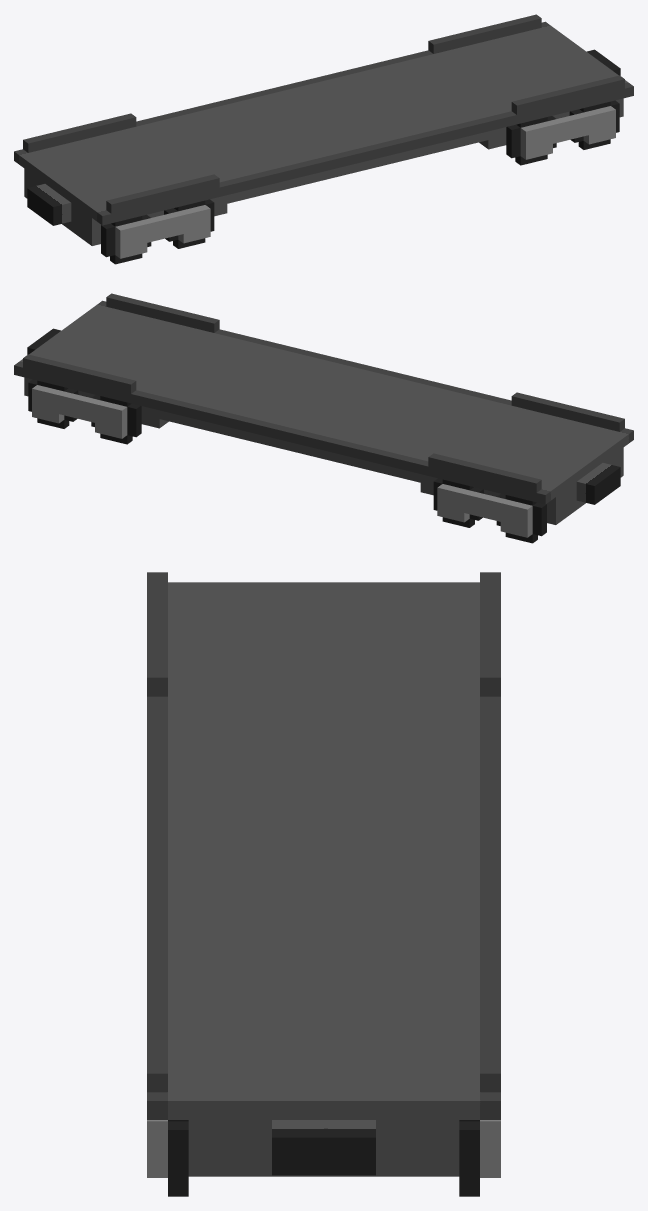
The model's file is veh_train3.fbx.
3 views of the same model, one above another, from view 1: azimuth 30°, elevation 25°; view 2: azimuth 150°, elevation 25°; view 3: azimuth 270°, elevation 25° (orthographic). The views are drawn at different scales.
Parts seen in each view (by area): view 1: veh_train3; view 2: veh_train3; view 3: veh_train3.
Part boxes in pixels (x1,y1,x2,y2): veh_train3: (14, 14, 633, 264); veh_train3: (14, 293, 633, 543); veh_train3: (147, 572, 500, 1196).
Size of the model in its own units: 6.3 by 1.7 by 0.7.
Materials: 1 (1 with a texture image).
